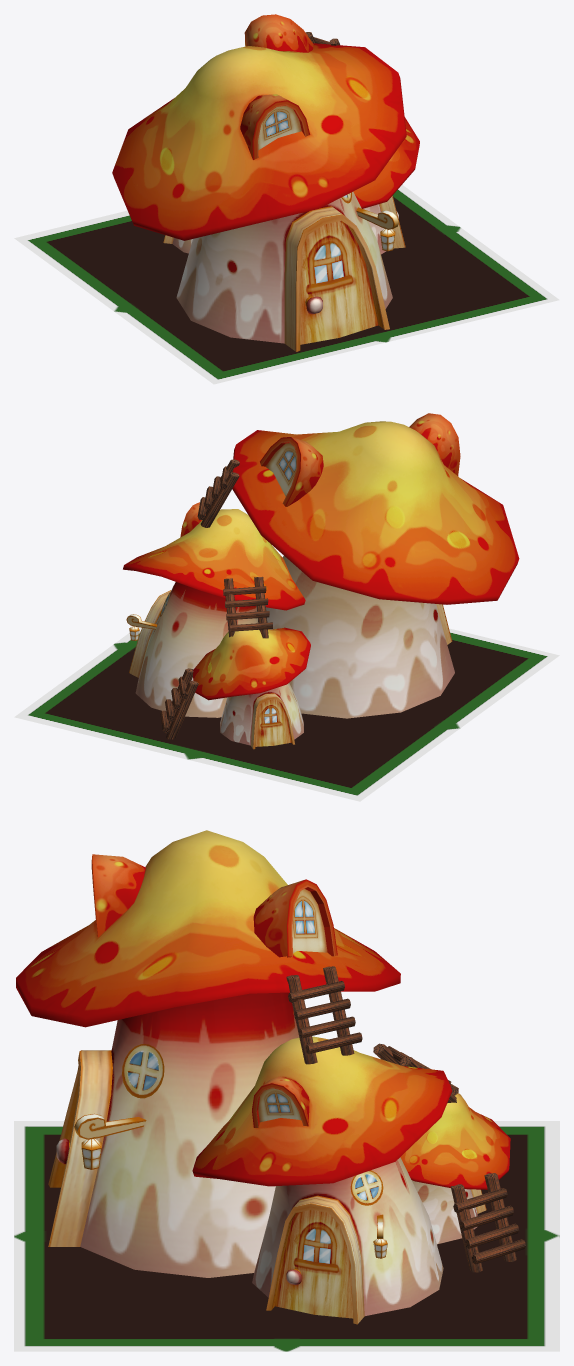
The model's file is house_3.fbx.
The picture shows the model from 3 angles, top to bottom: view 1: azimuth 30°, elevation 25°; view 2: azimuth 150°, elevation 25°; view 3: azimuth 270°, elevation 25°; orthographic projection. The views are drawn at different scales.
Visible parts, largest first — view 1: pCylinder9; view 2: pCylinder9; view 3: pCylinder9.
Part boxes in pixels (box(x1,y1,x2,y2)): pCylinder9: box(14, 14, 559, 384); pCylinder9: box(14, 413, 559, 801); pCylinder9: box(14, 830, 559, 1351).
Size of the model in its own units: 12.37 by 8.52 by 12.
